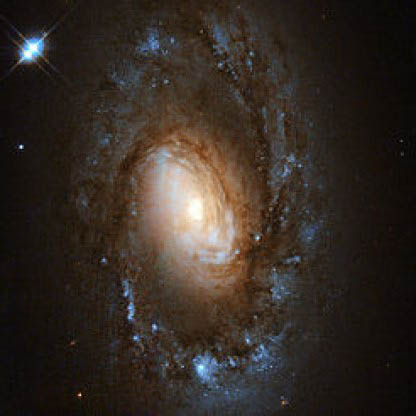NGC 4102: (17, 11, 356, 409)
